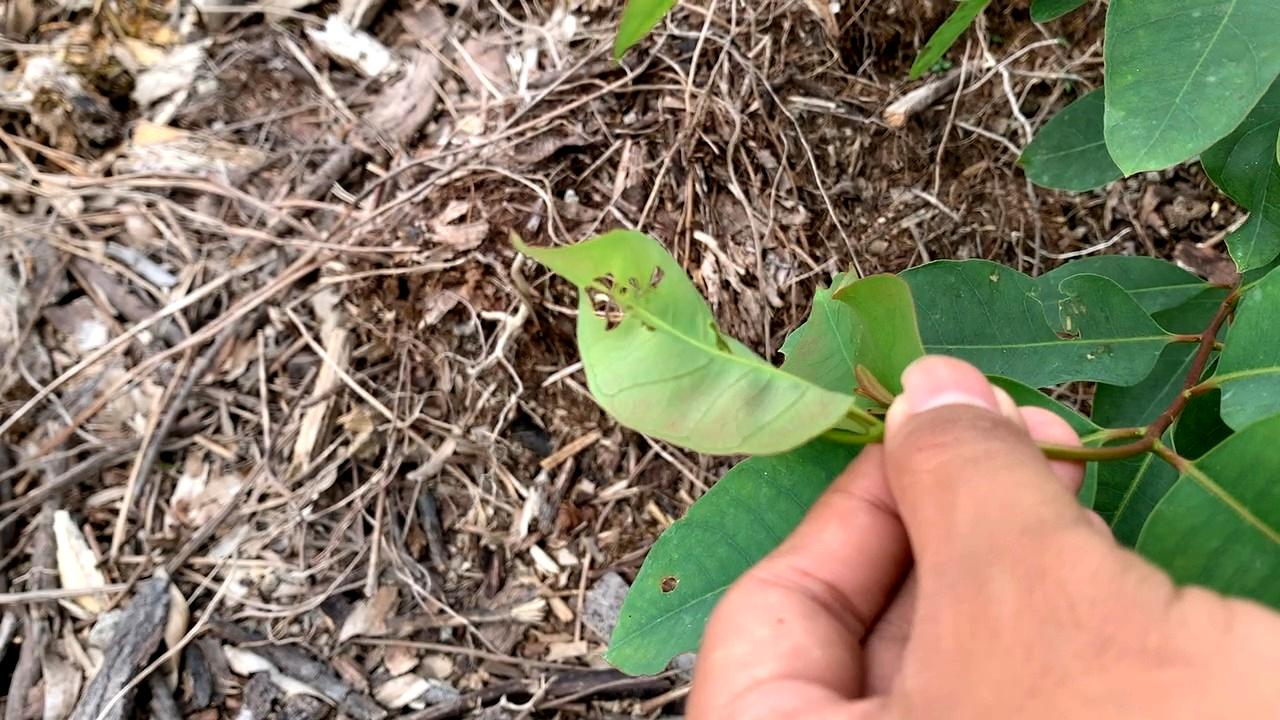Leaf Roller - Leaf: (509, 235, 829, 480)
